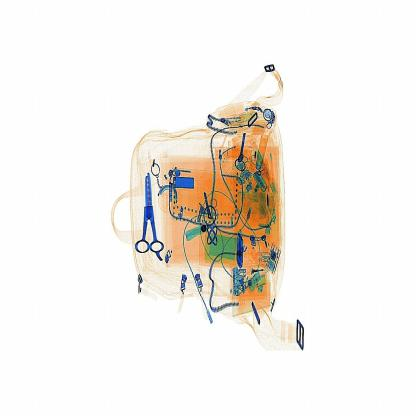gun: (132, 169, 170, 271)
